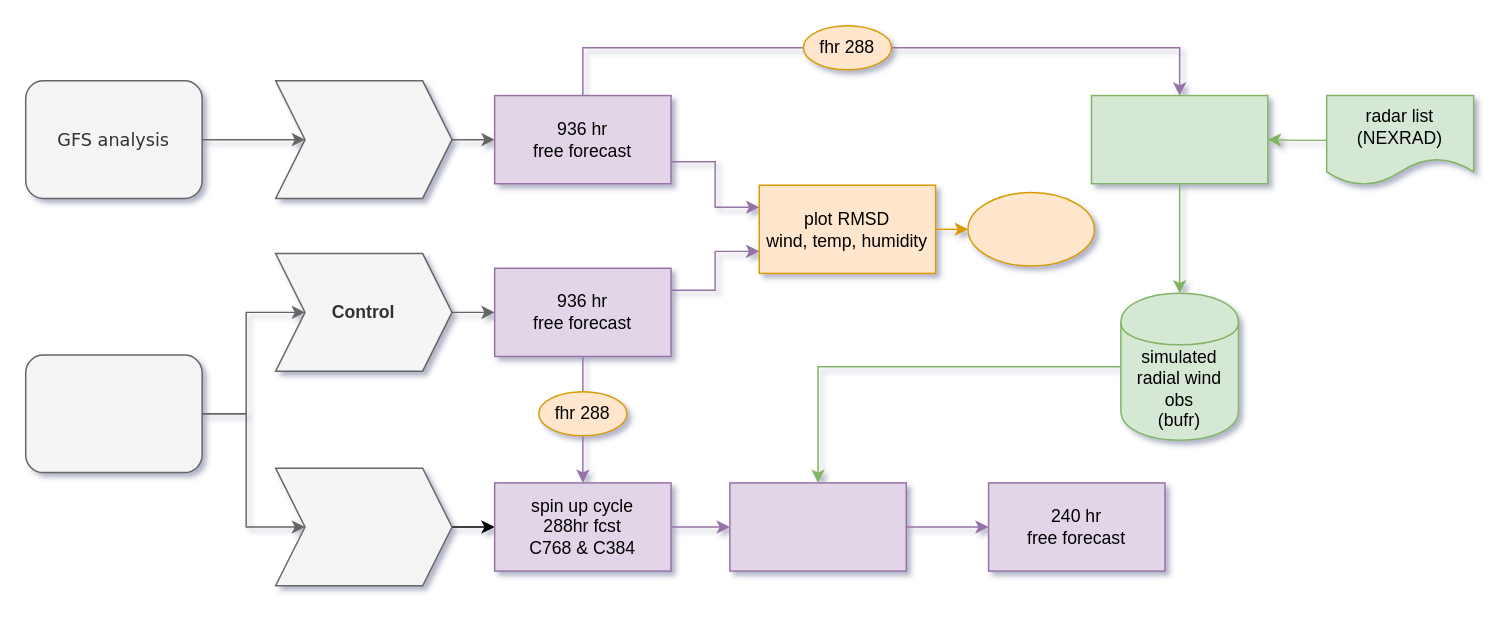
Some shapes in this 1508 by 620 pixel diagram are drawn without their labels. Here are the shapes that lost their labels. From the top down, the centre of each, then its label:
At (x=363, y=138): "Truth".
At (x=1179, y=139): "drwsim convert model out to observations + error".
At (x=1030, y=228): "288 hr spin up time".
At (x=113, y=413): "EnKF member analysis".
At (x=363, y=526): "Experiment".
At (x=817, y=526): "3DVar".
